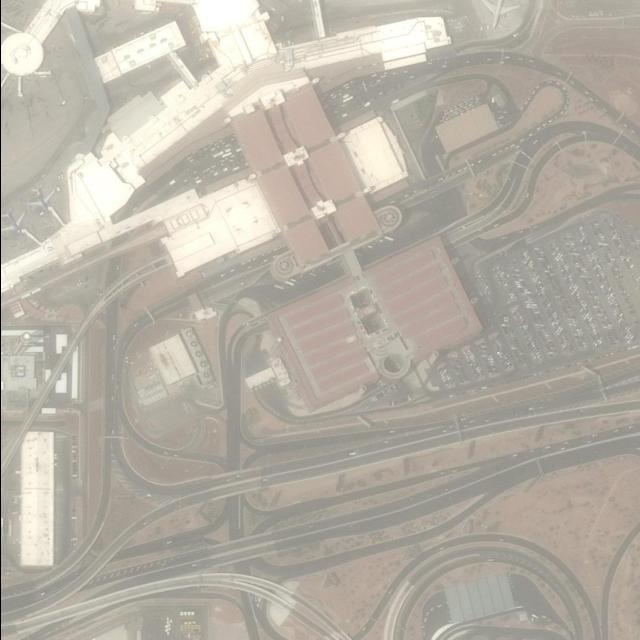Aircraft: (477, 0, 519, 28), (27, 182, 55, 214), (1, 206, 27, 236)
